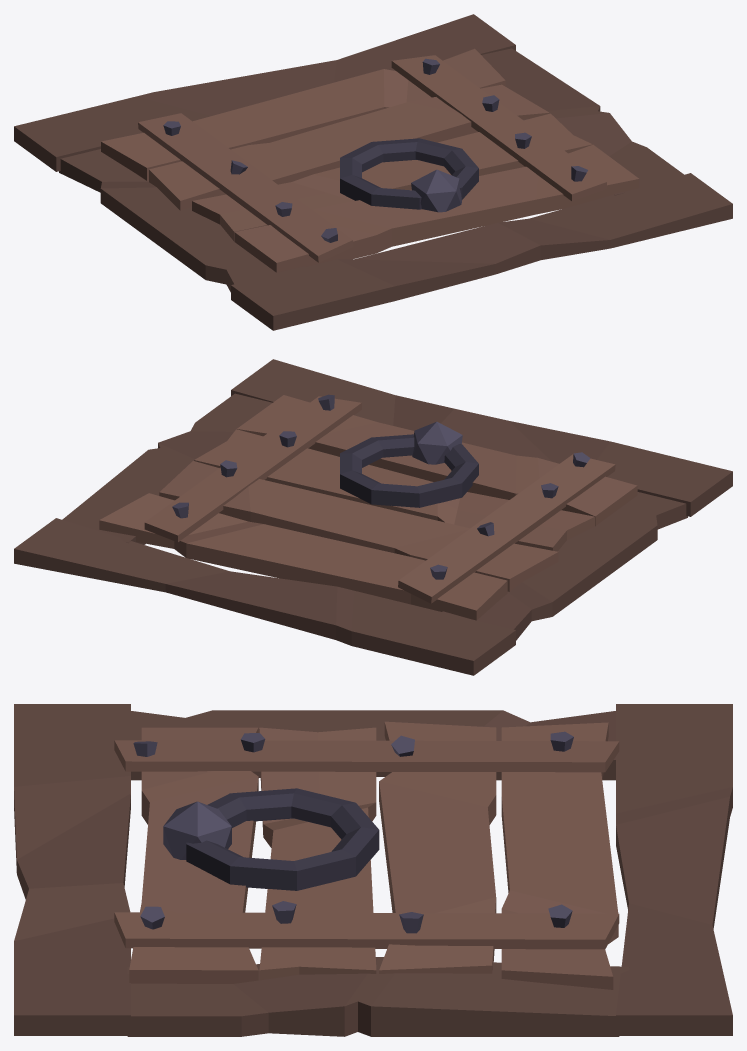
File: Trapdoor.glb
3 views of the same model, one above another, from view 1: azimuth 30°, elevation 25°; view 2: azimuth 150°, elevation 25°; view 3: azimuth 270°, elevation 25° (orthographic). The views are drawn at different scales.
Visible parts, largest first — view 1: Trapdoor; view 2: Trapdoor; view 3: Trapdoor.
Part boxes in pixels (left/top/right/bottom): Trapdoor: left=14, top=14, right=732, bottom=330; Trapdoor: left=14, top=359, right=732, bottom=675; Trapdoor: left=14, top=704, right=732, bottom=1036.
Size of the model in its own units: 1.74 by 0.2152 by 1.7.
